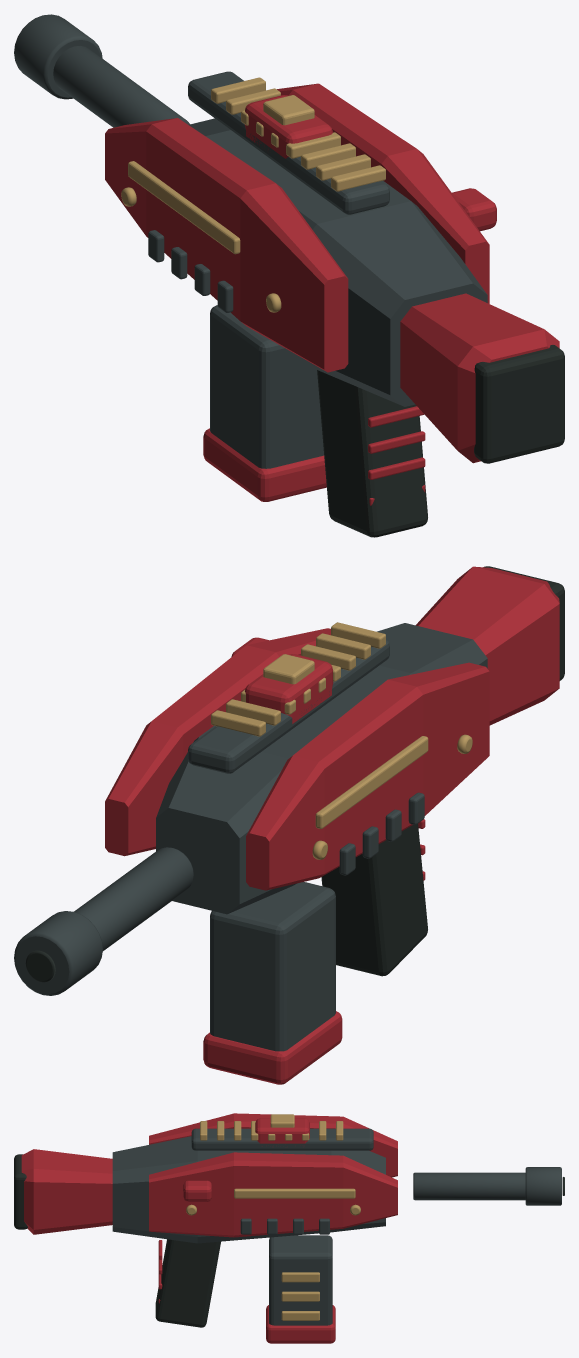
The model's file is Reference_smg.glb.
The picture shows the model from 3 angles, top to bottom: view 1: azimuth 30°, elevation 25°; view 2: azimuth 150°, elevation 25°; view 3: azimuth 270°, elevation 25°; orthographic projection. The views are drawn at different scales.
Visible parts, largest first — view 1: Body, ReloadMagazine_SMG, ChargingHandle_Reference; view 2: Body, ReloadMagazine_SMG; view 3: Body, ReloadMagazine_SMG, ChargingHandle_Reference.
Part boxes in pixels (x1=…): Body: x1=14, y1=14, x2=564, y2=537; ReloadMagazine_SMG: x1=203, y1=305, x2=326, y2=501; ChargingHandle_Reference: x1=452, y1=188, x2=496, y2=231; Body: x1=14, y1=566, x2=564, y2=995; ReloadMagazine_SMG: x1=203, y1=882, x2=342, y2=1084; Body: x1=14, y1=1113, x2=564, y2=1327; ReloadMagazine_SMG: x1=266, y1=1235, x2=335, y2=1343; ChargingHandle_Reference: x1=183, y1=1180, x2=211, y2=1201.
Bounding box in the file's own units: 0.2405 × 0.3915 × 0.9075.
